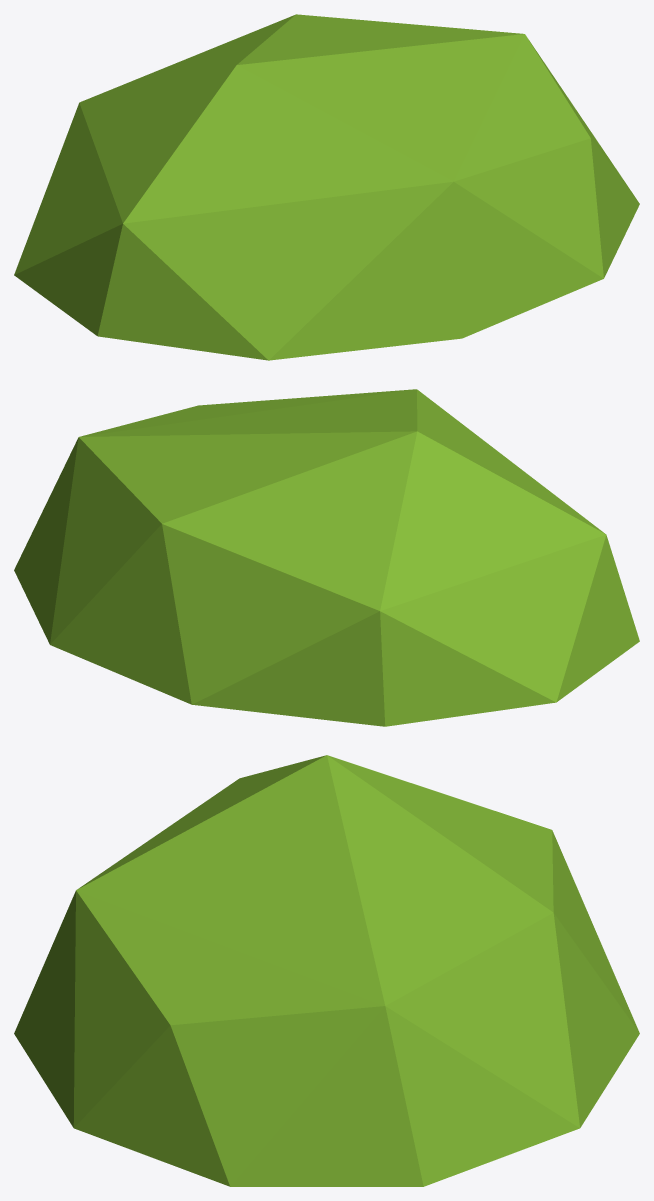
File: natures-bush-02.glb
3 renders of one model, top to bottom at view 1: azimuth 30°, elevation 25°; view 2: azimuth 150°, elevation 25°; view 3: azimuth 270°, elevation 25°, orthographic. The views are drawn at different scales.
Visible parts, largest first — view 1: model; view 2: model; view 3: model.
Part boxes in pixels (x1,y1,x2,y2): model: (14,14,639,360); model: (14,389,639,726); model: (14,755,639,1186).
Bounding box in the file's own units: 2.9 × 1 × 2.5.
1 material, 1 textured.
